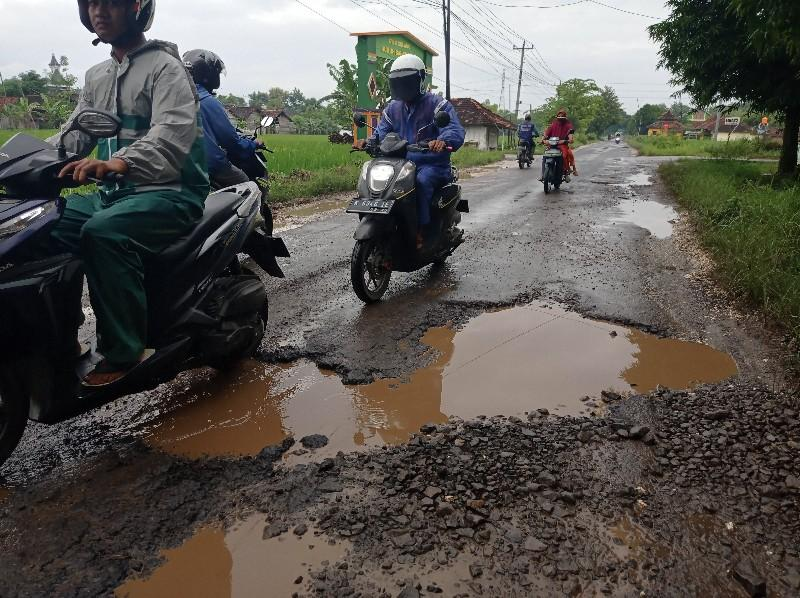Pothole: (66, 236, 767, 473), (61, 511, 383, 598)
